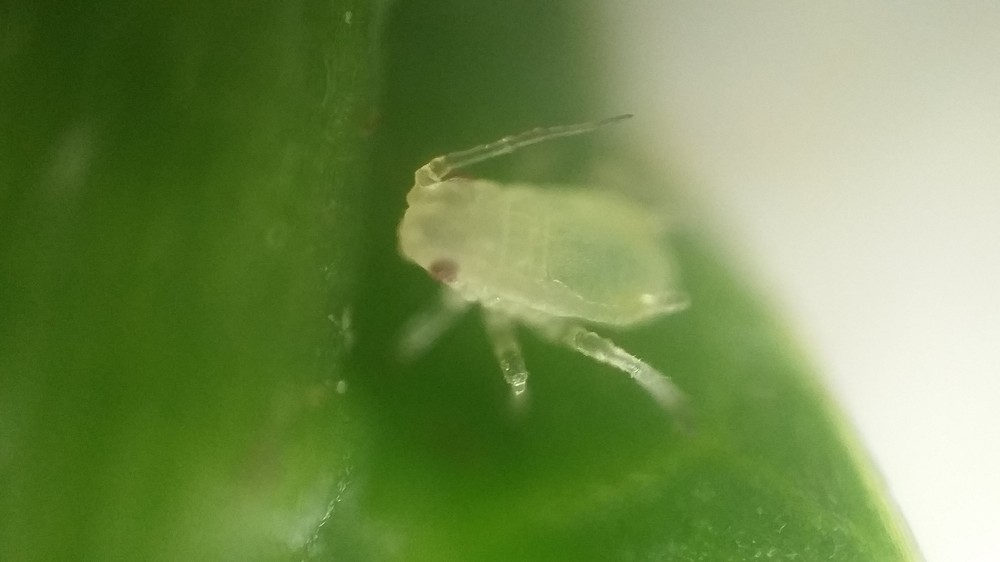Pulgon: (348, 97, 740, 446)
